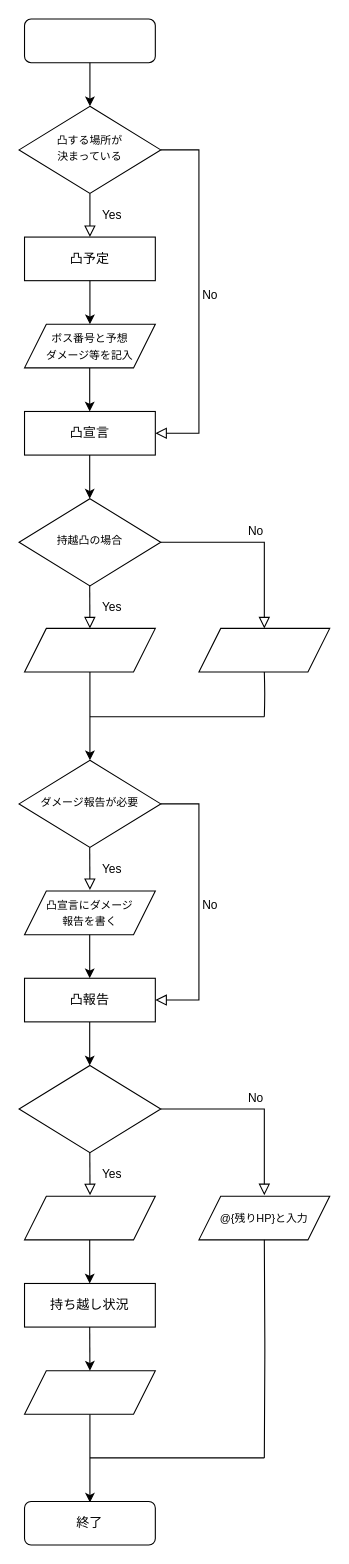
Some shapes in this 349 by 1564 pixel diagram are drawn without their labels. Each missing label, with the centre of its shape:
killと入力: (x=89, y=1217)
ボスを倒した: (x=89, y=1108)
凸を押す: (x=264, y=649)
持越を押す: (x=89, y=649)
秒数、ボス、 ダメージ等を入力: (x=89, y=1392)
開始: (x=89, y=40)
